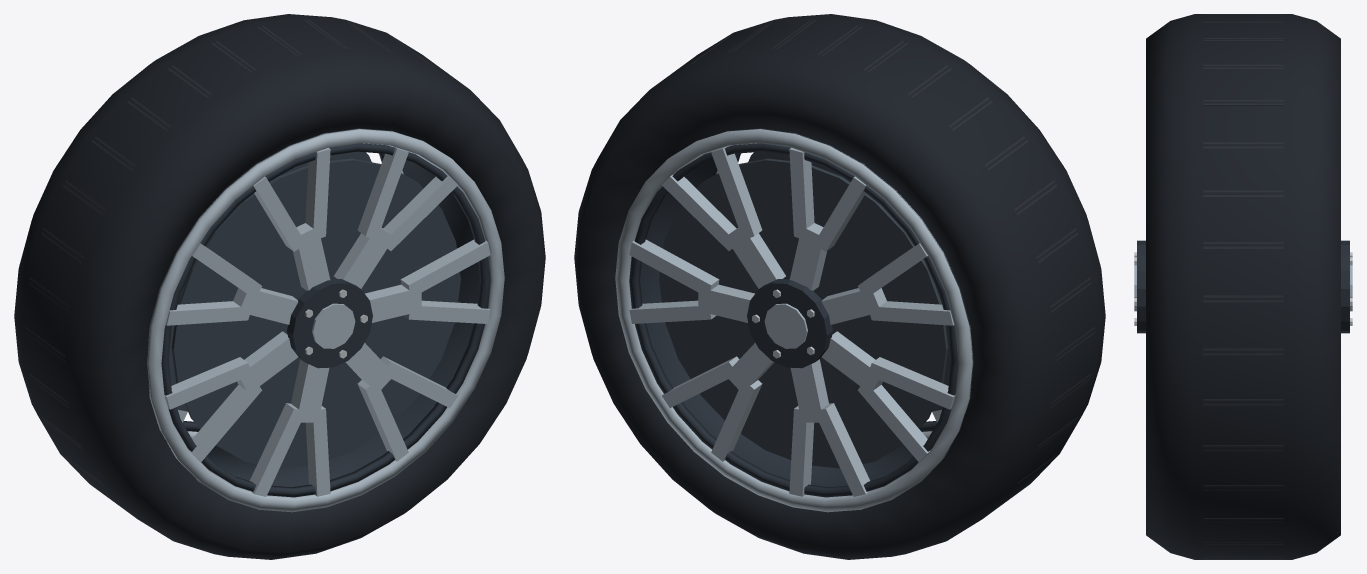
File: forged.glb
3 views of the same model, side by side, from view 1: azimuth 30°, elevation 25°; view 2: azimuth 150°, elevation 25°; view 3: azimuth 270°, elevation 25° (orthographic).
Parts seen in each view (by area): view 1: wheel; view 2: wheel; view 3: wheel.
Part boxes in pixels (x1,y1,x2,y2): wheel: (14, 14, 545, 559); wheel: (574, 14, 1105, 559); wheel: (1134, 14, 1352, 559).
Size of the model in its own units: 2 by 2 by 0.8.
